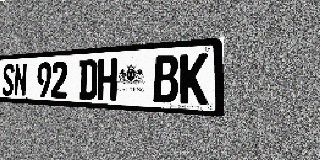2: (51, 61, 68, 99)
9: (37, 62, 52, 98)
B: (153, 55, 179, 103)
D: (79, 59, 97, 100)
H: (97, 58, 117, 101)
K: (179, 53, 208, 105)
N: (14, 63, 27, 97)
S: (2, 64, 14, 96)
